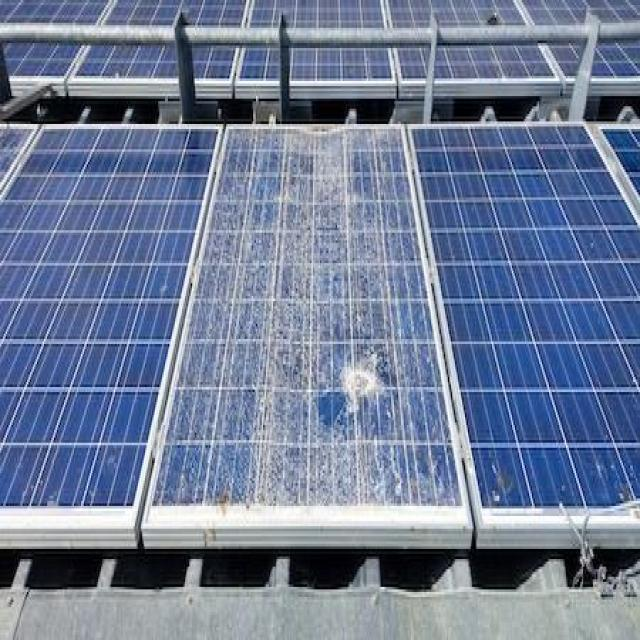cracked: (150, 129, 467, 526)
